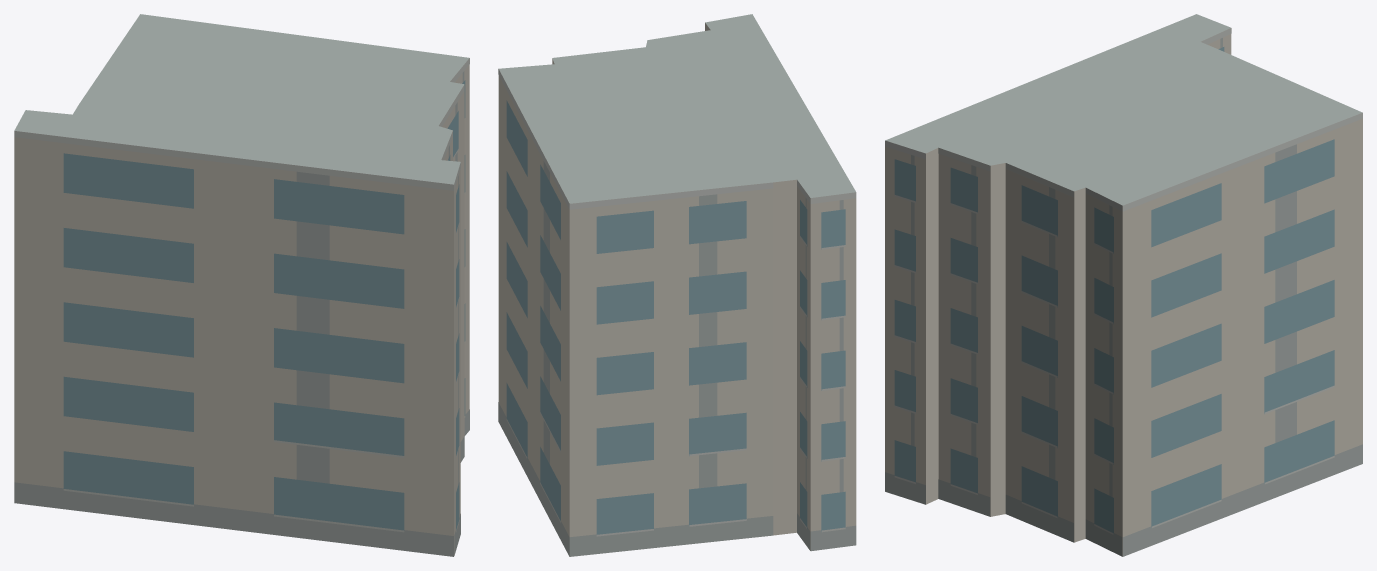
File: survey-upis-32982634.glb
3 views of the same model, side by side, from view 1: azimuth 30°, elevation 25°; view 2: azimuth 150°, elevation 25°; view 3: azimuth 270°, elevation 25° (orthographic). The views are drawn at different scales.
Visible parts, largest first — view 1: survey-upis-32982634.tmp; view 2: survey-upis-32982634.tmp; view 3: survey-upis-32982634.tmp.
Boxes of the visible parts, bbox=[...] form: survey-upis-32982634.tmp: bbox=[14, 14, 469, 556]; survey-upis-32982634.tmp: bbox=[498, 14, 856, 556]; survey-upis-32982634.tmp: bbox=[885, 14, 1362, 556].
Size of the model in its own units: 16.74 by 14.3 by 17.64.
